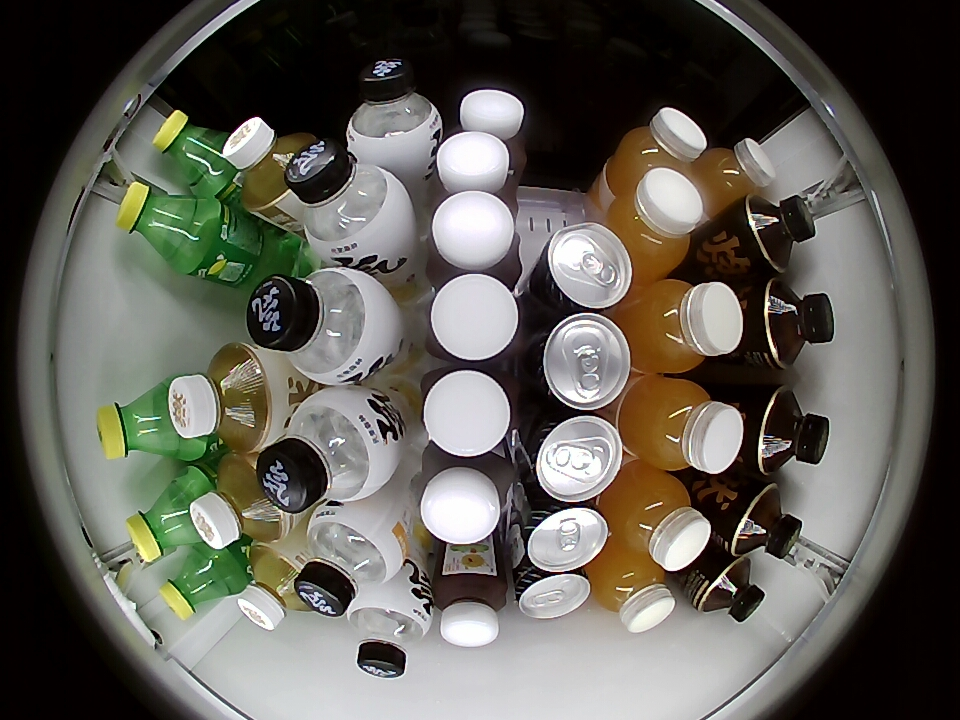qingdaowangzi-1: (525, 313, 632, 411), (522, 409, 624, 502), (532, 222, 633, 314), (519, 498, 610, 572), (513, 563, 593, 620)
rancha-1: (756, 279, 835, 370), (753, 386, 830, 475), (730, 483, 803, 560), (746, 194, 817, 271), (694, 557, 766, 623)
rancha-2: (168, 343, 275, 453), (189, 454, 295, 551), (223, 116, 317, 213), (238, 545, 313, 631)
weic: (619, 376, 745, 474), (625, 279, 744, 374), (605, 468, 712, 571), (603, 169, 704, 277), (606, 107, 707, 199), (591, 552, 676, 633), (693, 138, 776, 213)
xuebi-b: (115, 180, 209, 269), (152, 109, 234, 192), (97, 384, 182, 462), (126, 478, 203, 564), (159, 548, 236, 620)
youyanggudong: (415, 451, 513, 547), (424, 273, 523, 366), (427, 189, 522, 285), (419, 364, 516, 458), (432, 569, 508, 648), (434, 131, 518, 200), (444, 90, 527, 158)
yuanqishui: (246, 268, 395, 384), (258, 389, 398, 512), (284, 142, 414, 267), (294, 503, 406, 617), (346, 58, 443, 165), (349, 589, 432, 678)
